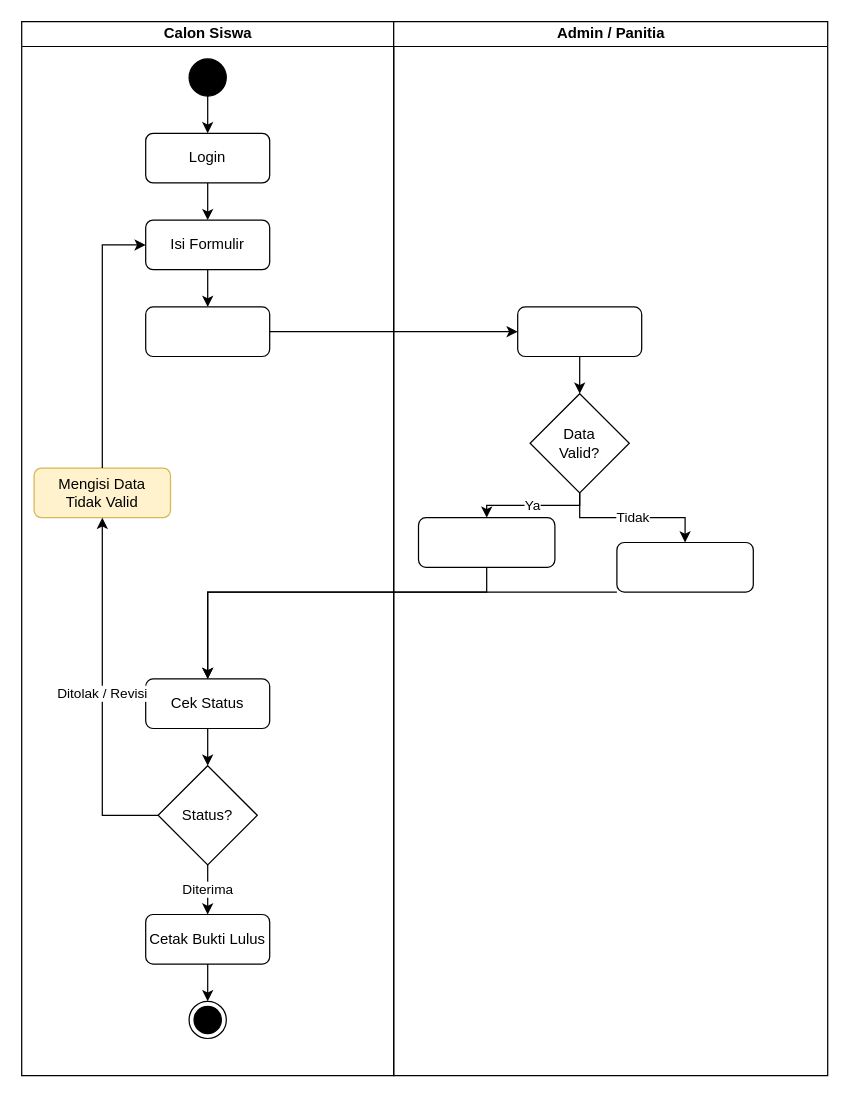
The diagram is 849 pixels wide and 1097 high, and some of its shapes have lost their labels. The centre of each missing label's shape, as x and y in pixels:
"Update Status Diterima" goes at (x=486, y=541).
"Update Status Ditolak" goes at (x=684, y=566).
"Upload Dokumen" goes at (x=207, y=331).
"Verifikasi Data" goes at (x=579, y=331).
